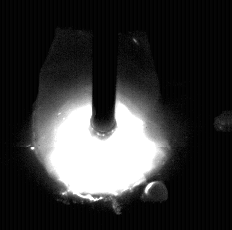arame: (93, 0, 117, 140)
poca: (31, 0, 171, 230)
